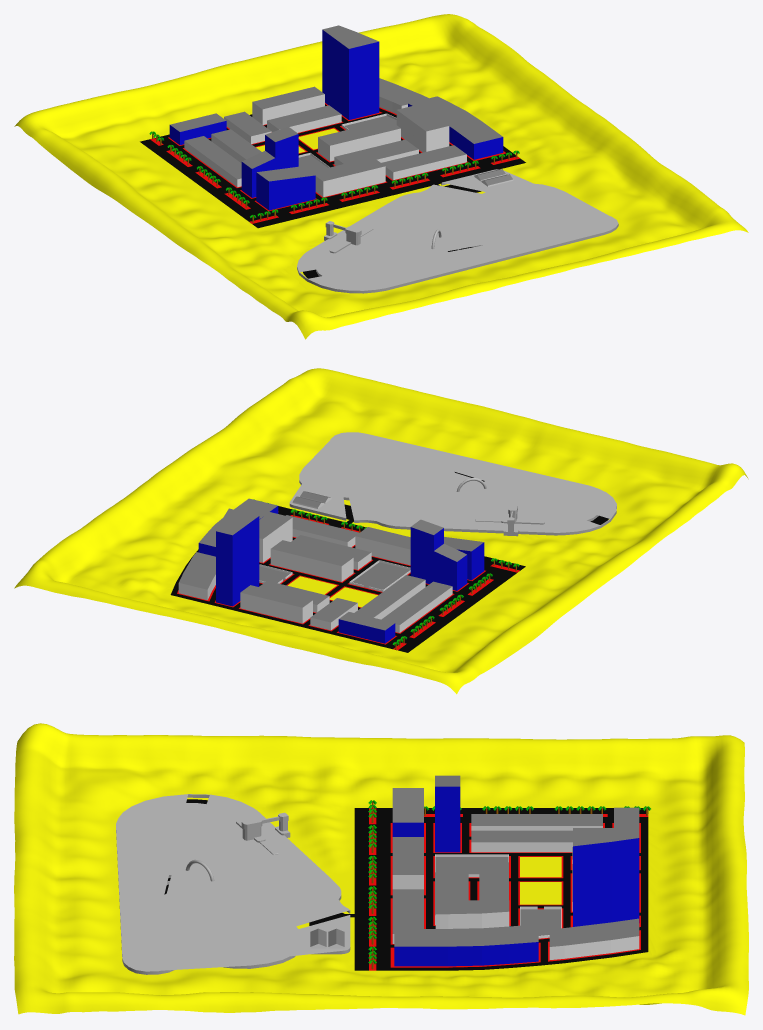
The model's file is HAKUZAKI CITY 2X.fbx.
The picture shows the model from 3 angles, top to bottom: view 1: azimuth 30°, elevation 25°; view 2: azimuth 150°, elevation 25°; view 3: azimuth 270°, elevation 25°; orthographic projection. The views are drawn at different scales.
Visible parts, largest first — view 1: TERRAIN, THE MAP, TREES; view 2: TERRAIN, THE MAP, TREES; view 3: TERRAIN, THE MAP, TREES.
Part boxes in pixels (box(x1,y1,x2,y2)): TERRAIN: box(14, 14, 748, 339); THE MAP: box(140, 25, 618, 293); TREES: box(149, 131, 519, 222); TERRAIN: box(14, 368, 748, 694); THE MAP: box(170, 432, 616, 652); TREES: box(253, 499, 519, 649); TERRAIN: box(14, 723, 748, 1015); THE MAP: box(116, 775, 648, 974); TREES: box(368, 800, 650, 969).
Bounding box in the file's own units: 71251 × 11330 × 81318.
